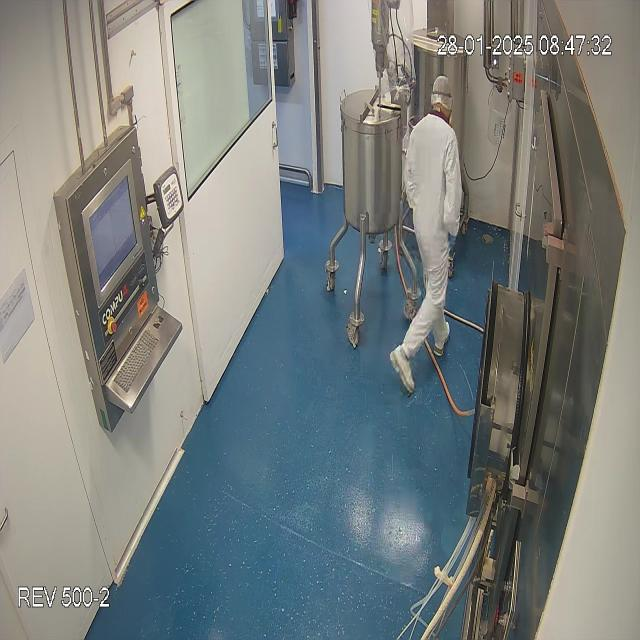bota: (387, 320, 454, 394)
pessoa: (391, 70, 463, 398)
touca: (429, 74, 456, 122)
